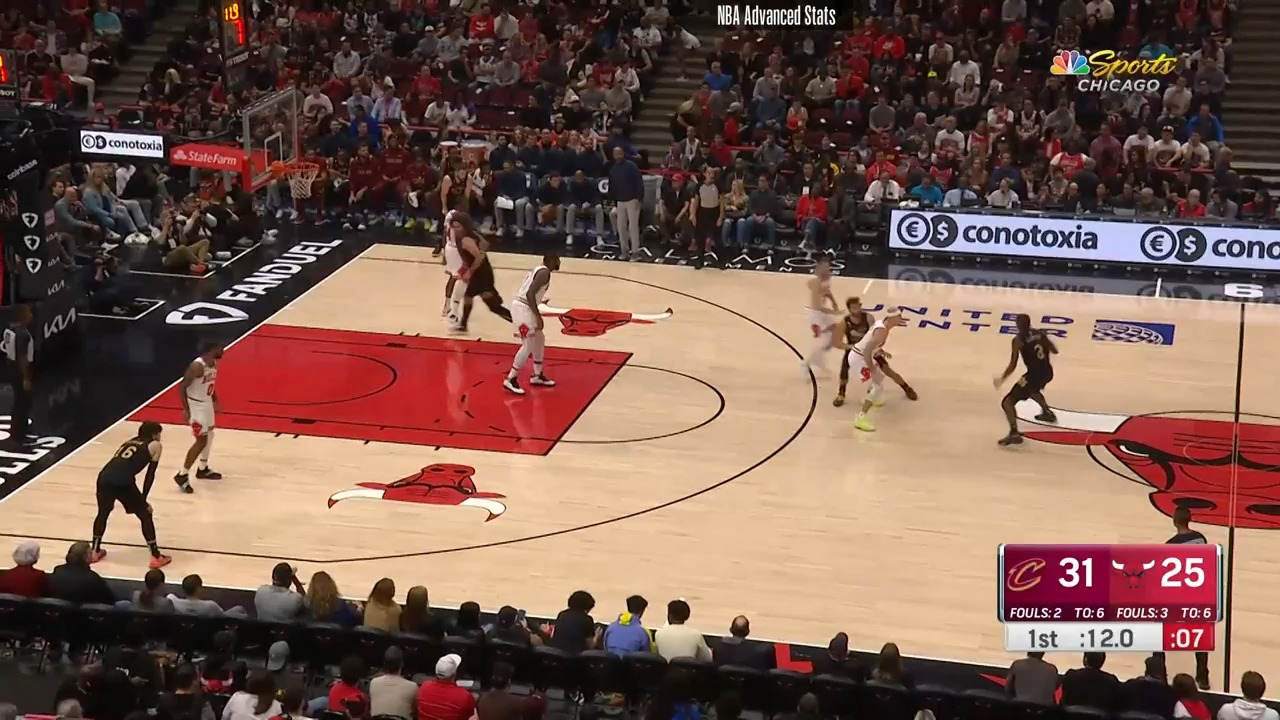net: (275, 157, 322, 204)
player: (77, 420, 174, 572), (162, 336, 230, 500), (832, 288, 919, 411), (992, 312, 1063, 452), (511, 251, 573, 399), (445, 219, 519, 340), (844, 307, 905, 432), (807, 259, 856, 412), (437, 200, 478, 324), (434, 163, 475, 265)
referee: (0, 296, 45, 459), (689, 164, 729, 257), (1165, 504, 1207, 547)
